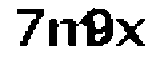7: (12, 5, 44, 52)
9: (94, 8, 115, 48)
m: (47, 16, 94, 54)
x: (116, 15, 149, 51)
